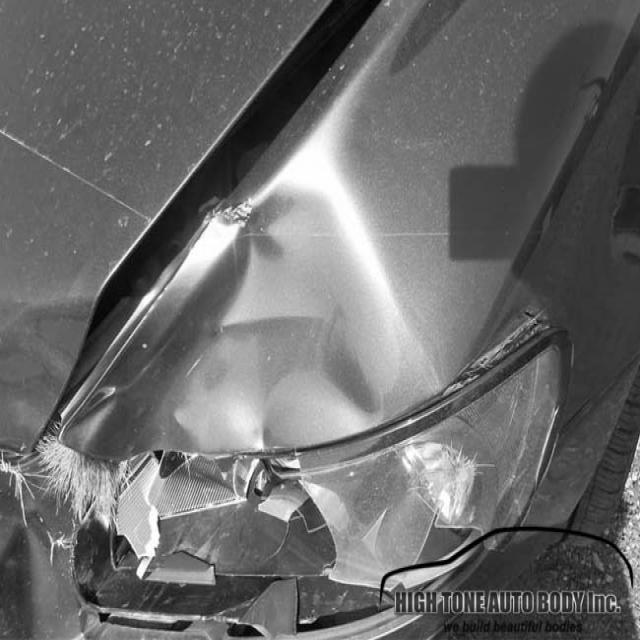crush: (0, 0, 569, 640)
